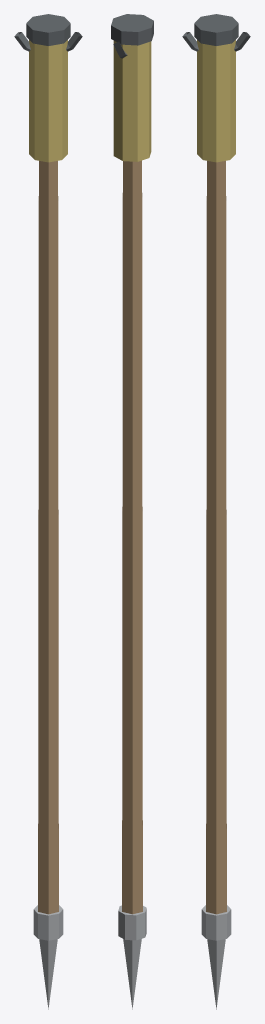
File: tool_poking_stick.glb
3 views of the same model, side by side, from view 1: azimuth 90°, elevation 25°; view 2: azimuth 150°, elevation 25°; view 3: azimuth 270°, elevation 25° (orthographic).
Parts seen in each view (by area): view 1: Shaft; view 2: Shaft; view 3: Shaft.
Boxes of the visible parts, x1=… form: Shaft: x1=14, y1=14, x2=82, y2=1009; Shaft: x1=111, y1=14, x2=153, y2=1009; Shaft: x1=182, y1=14, x2=250, y2=1009.
Size of the model in its own units: 0.048 by 1.18 by 0.0741.
